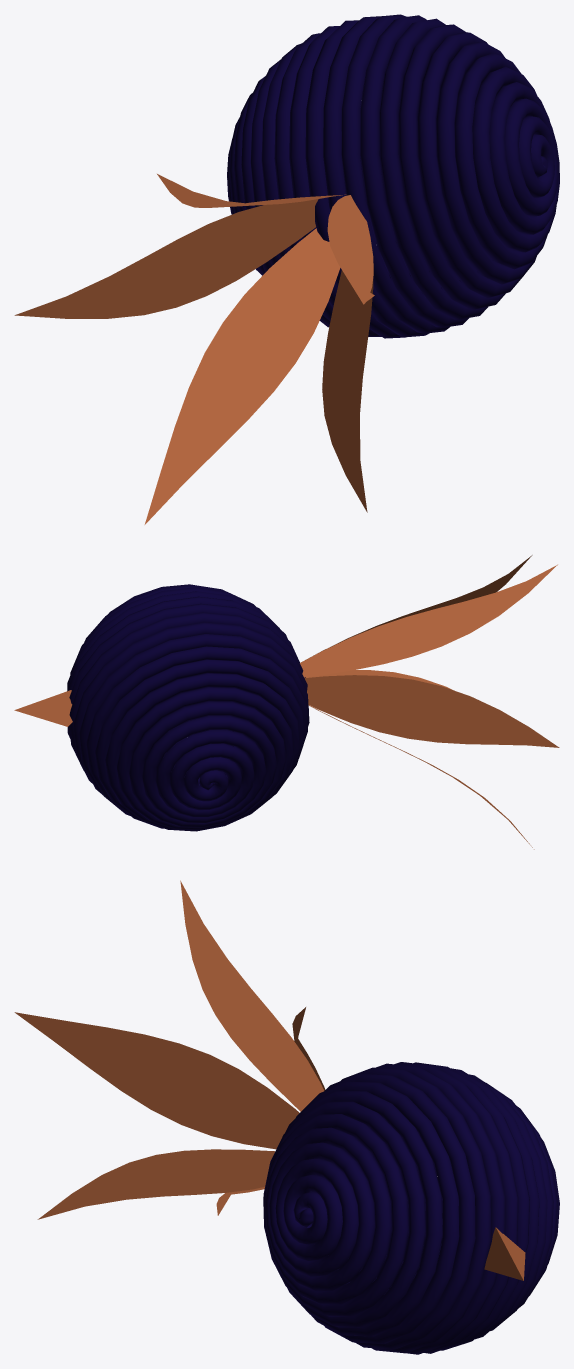
3 renders of one model, top to bottom at view 1: azimuth 30°, elevation 25°; view 2: azimuth 150°, elevation 25°; view 3: azimuth 270°, elevation 25°, orthographic. The views are drawn at different scales.
Parts seen in each view (by area): view 1: brush_Icing_g1_b0, brush_Petal_g1_b0; view 2: brush_Icing_g1_b0, brush_Petal_g1_b0, brush_Spikes_g1_b0; view 3: brush_Icing_g1_b0, brush_Petal_g1_b0, brush_Spikes_g1_b0.
Boxes of the visible parts, box(x1,y1,x2,y2) form: brush_Icing_g1_b0: box(227, 14, 559, 338); brush_Petal_g1_b0: box(14, 174, 374, 524); brush_Icing_g1_b0: box(67, 584, 309, 831); brush_Petal_g1_b0: box(300, 555, 559, 849); brush_Spikes_g1_b0: box(14, 690, 72, 726); brush_Icing_g1_b0: box(263, 1062, 559, 1354); brush_Petal_g1_b0: box(14, 880, 325, 1219); brush_Spikes_g1_b0: box(484, 1227, 525, 1280).
Bounding box in the file's own units: 4.68 × 2.72 × 4.06.
